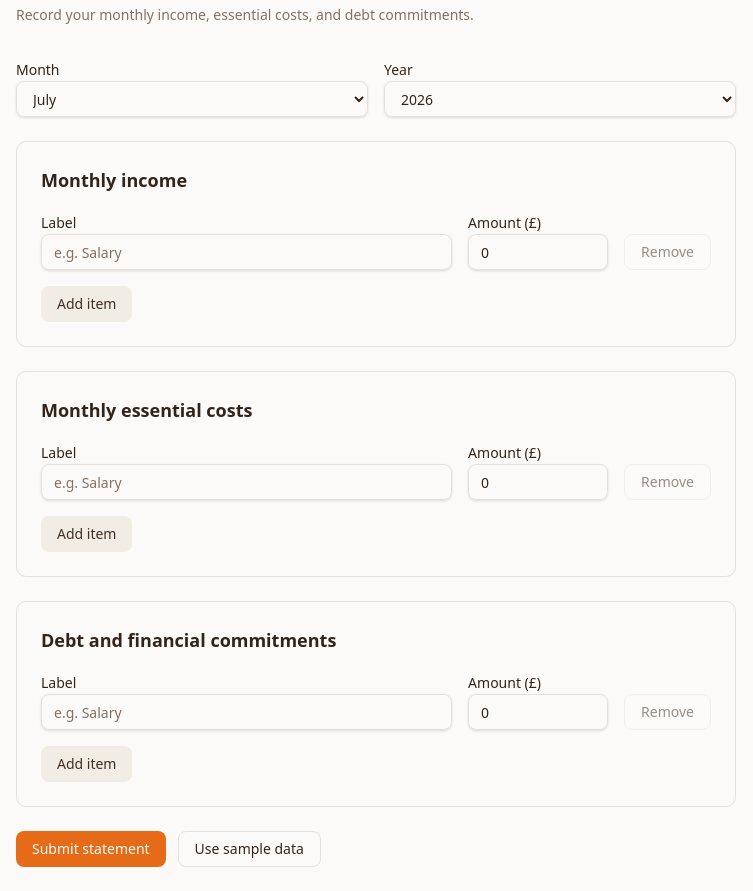
Scenario: StatementNewPage › shows validation errors when required payment fields are empty
The image size is (753, 891).
(page scrolled)
Click the button "Submit statement" at (91, 849), box 16,831 -> 166,867
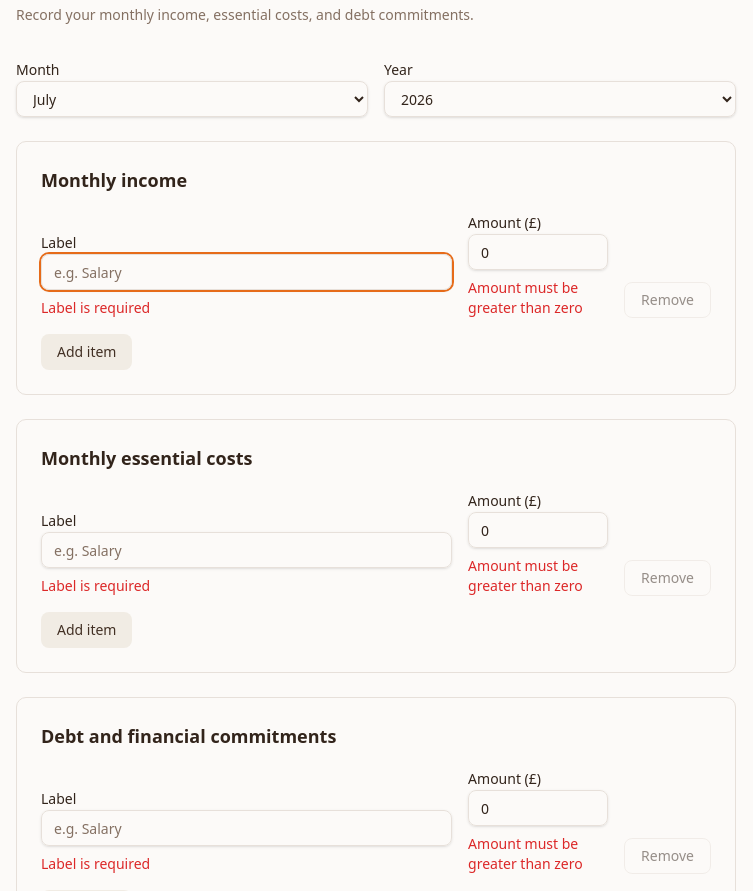
expect the text "Label is required" is shown 3 times: met, box 41,298 -> 150,317; 41,576 -> 150,595; 41,854 -> 150,873
expect the text "Amount must be greater than zero" is shown 3 times: met, box 468,278 -> 583,317; 468,556 -> 583,595; 468,834 -> 583,873
